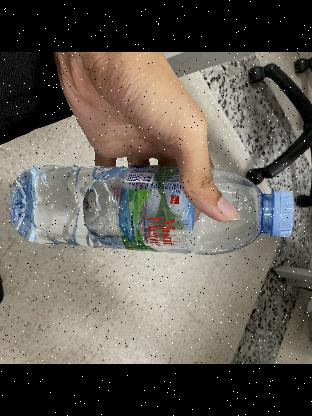Plastic Bottle: (6, 167, 294, 255)
